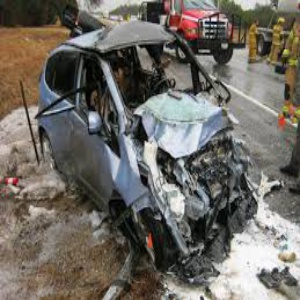bonnet: (143, 90, 242, 153)
bumper: (154, 164, 263, 254)
